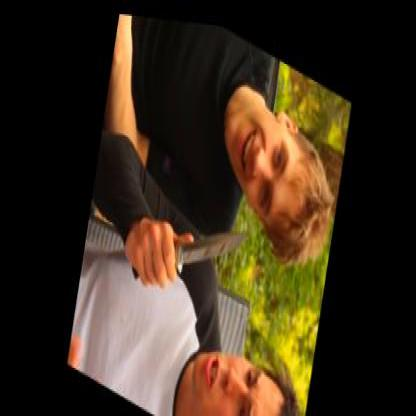knife: (141, 168, 255, 337)
